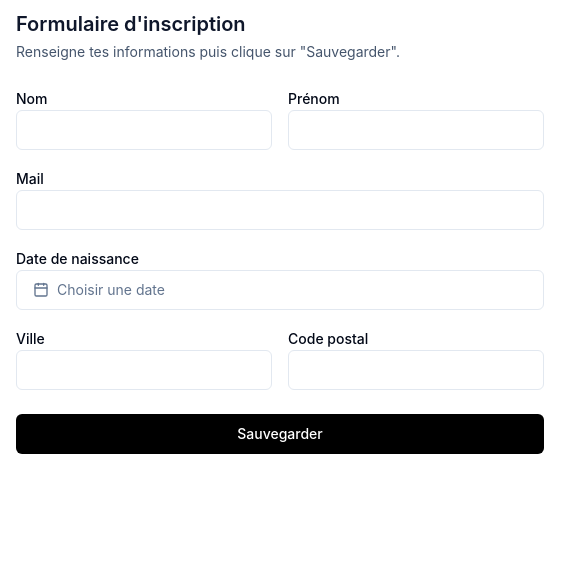
Test: RegistrationForm › affiche les erreurs pour un formulaire vide après soumission
This screenshot has width=561, height=583.
Click the button "Sauvegarder": (280, 434) [16,414,544,454]
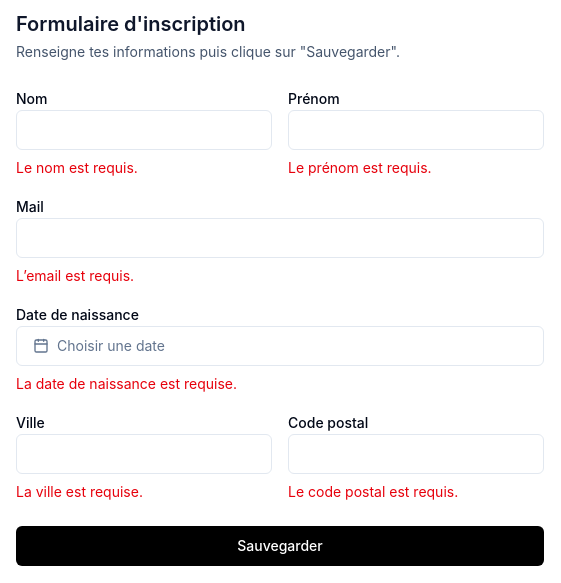
Now the text "Le nom est requis." is shown, box [16,159,138,176]
Now the text "Le prénom est requis." is shown, box [288,159,432,176]
Now the text "L’email est requis." is shown, box [16,267,134,284]
